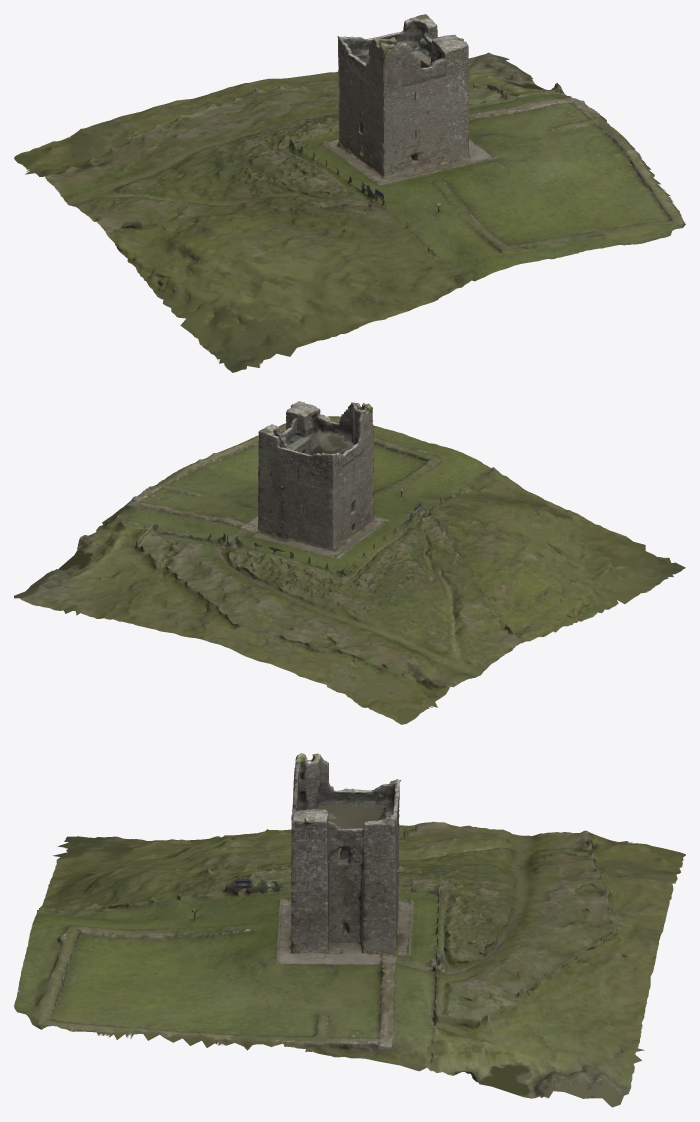
The model's file is Audley_Castle_003.glb.
3 renders of one model, top to bottom at view 1: azimuth 30°, elevation 25°; view 2: azimuth 150°, elevation 25°; view 3: azimuth 270°, elevation 25°, orthographic. The views are drawn at different scales.
Visible parts, largest first — view 1: AudleuCastle_002_Filtered1_n3d; view 2: AudleuCastle_002_Filtered1_n3d; view 3: AudleuCastle_002_Filtered1_n3d.
Part boxes in pixels (x1,y1,x2,y2): AudleuCastle_002_Filtered1_n3d: (14,14,685,372); AudleuCastle_002_Filtered1_n3d: (14,401,685,724); AudleuCastle_002_Filtered1_n3d: (14,753,685,1107).
Size of the model in its own units: 0.4249 by 0.1549 by 0.4163.
Materials: 1 (1 with a texture image).
